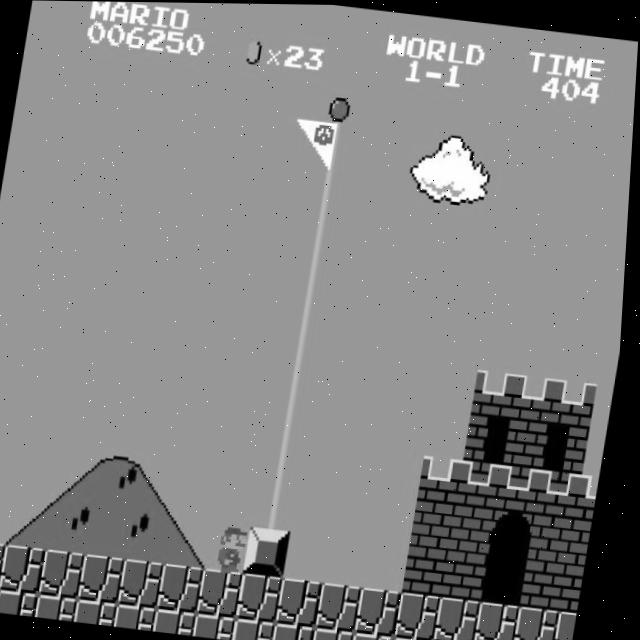1- brick_block: (526, 558, 574, 609)
11- little_mario: (212, 521, 262, 575)
17- undestructible_block: (4, 543, 53, 594), (123, 557, 172, 608), (83, 553, 132, 603), (202, 567, 251, 617), (242, 572, 291, 622), (321, 581, 370, 631), (400, 590, 449, 640), (44, 548, 92, 599), (163, 562, 211, 613), (282, 576, 330, 627), (361, 586, 409, 636), (440, 594, 488, 640), (479, 599, 527, 640), (519, 603, 567, 640), (80, 598, 125, 626), (199, 612, 244, 640), (41, 593, 85, 621), (160, 607, 204, 635), (1, 589, 46, 616), (120, 603, 165, 630), (238, 616, 282, 640), (559, 608, 584, 640), (278, 622, 322, 640), (0, 539, 13, 589), (318, 626, 362, 640), (358, 631, 402, 640), (398, 635, 442, 640), (0, 584, 6, 611), (437, 639, 480, 640)
7- goal_pole: (283, 299, 332, 350), (311, 117, 359, 168), (318, 72, 366, 122), (290, 254, 338, 304), (270, 390, 318, 440), (256, 481, 304, 531), (305, 163, 352, 213), (277, 344, 324, 394), (263, 435, 310, 485), (298, 209, 345, 258)
9- hard_block: (249, 526, 297, 576)
